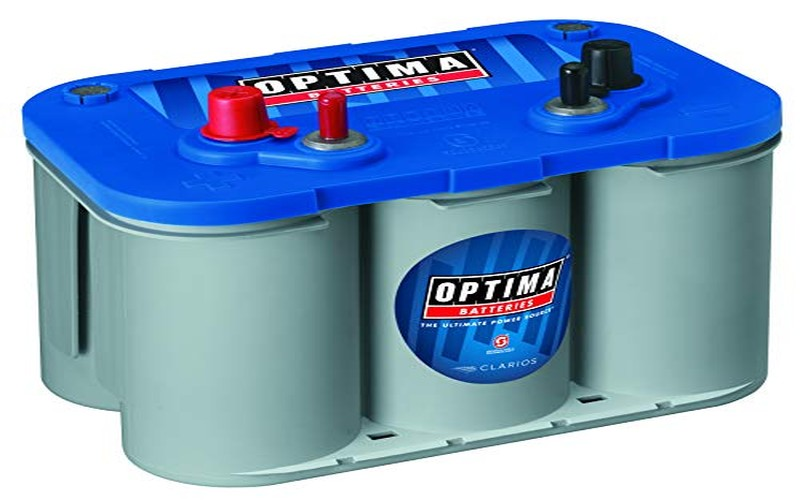Battery: (0, 1, 800, 499)
